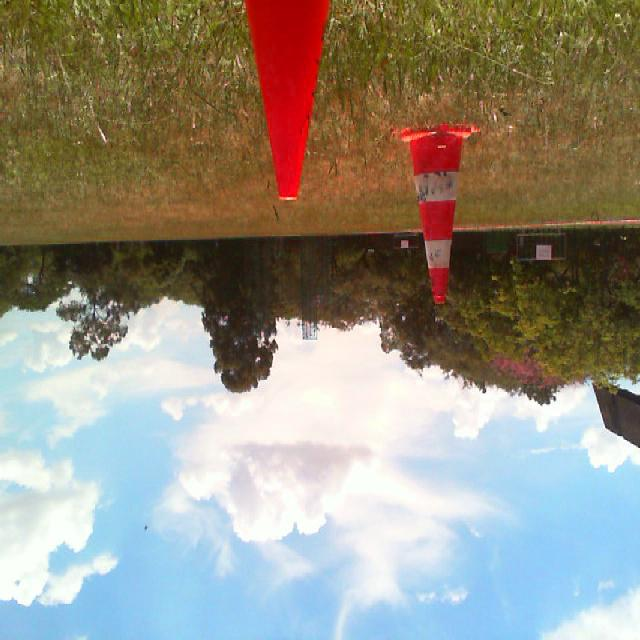cone: (244, 0, 330, 200), (392, 121, 480, 304)
